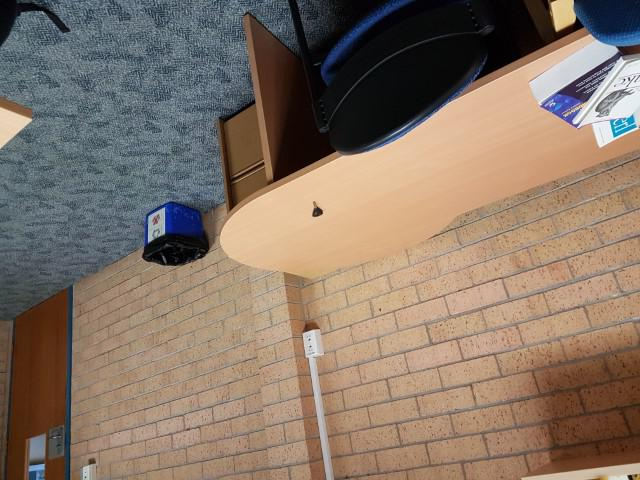key: (309, 199, 325, 219)
